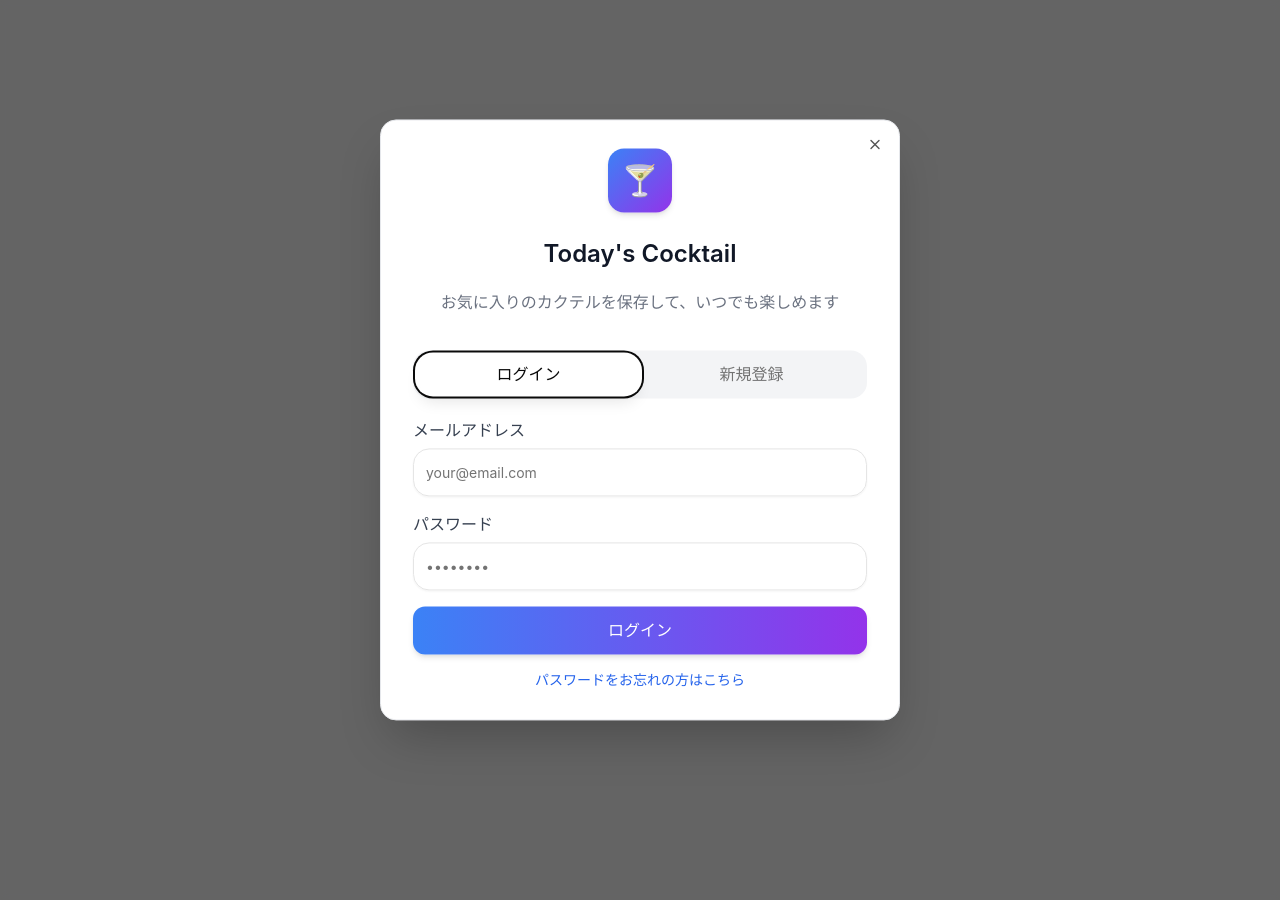
Test: AuthDialog › surface login errors coming from the API
Type "login@example.com" into the field labelled "メールアドレス".
click(640, 472); type("login@example.com")  # box [413,448,867,496]
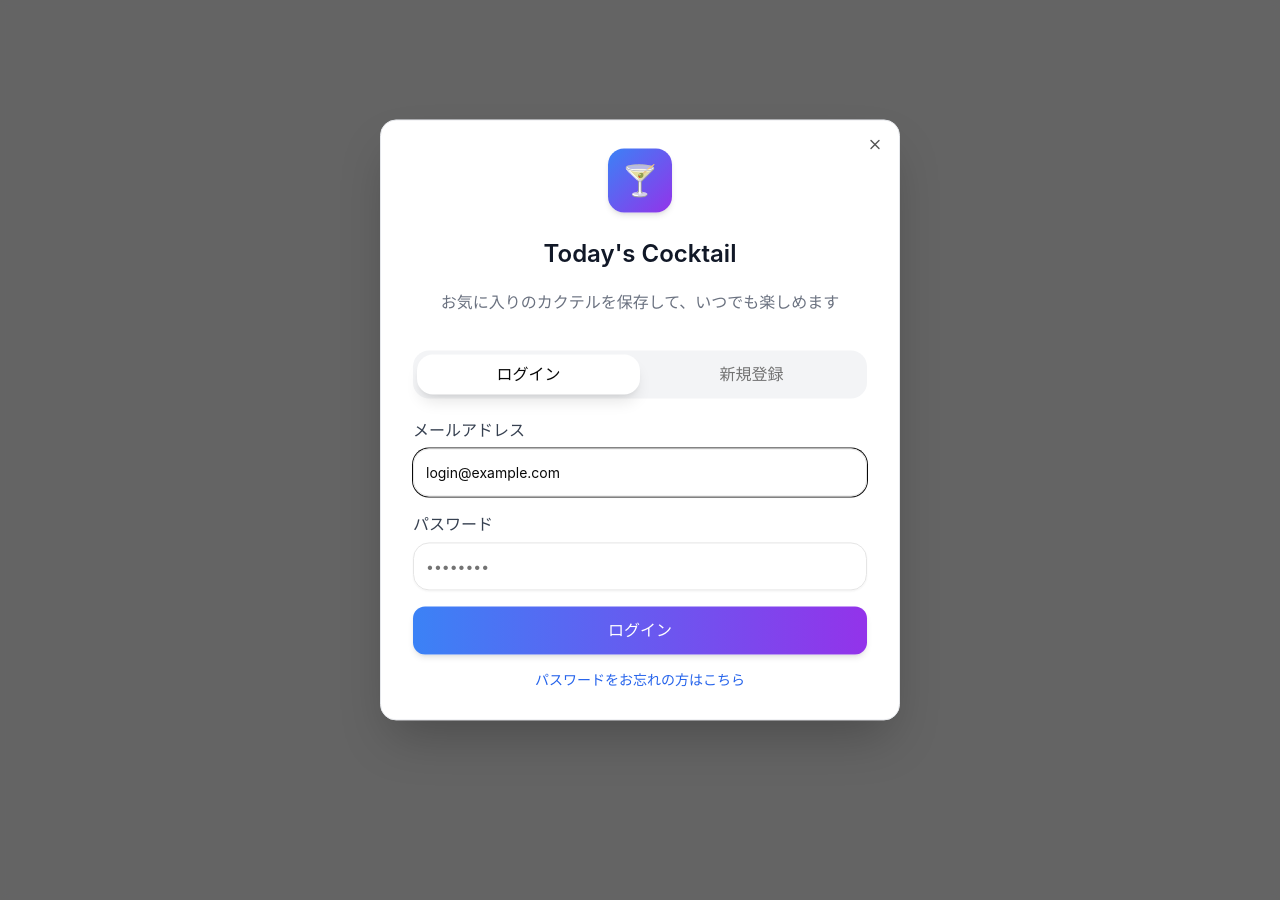
Type "password123" into the password field labelled "パスワード".
click(640, 566); type("password123")  # box [413,542,867,590]
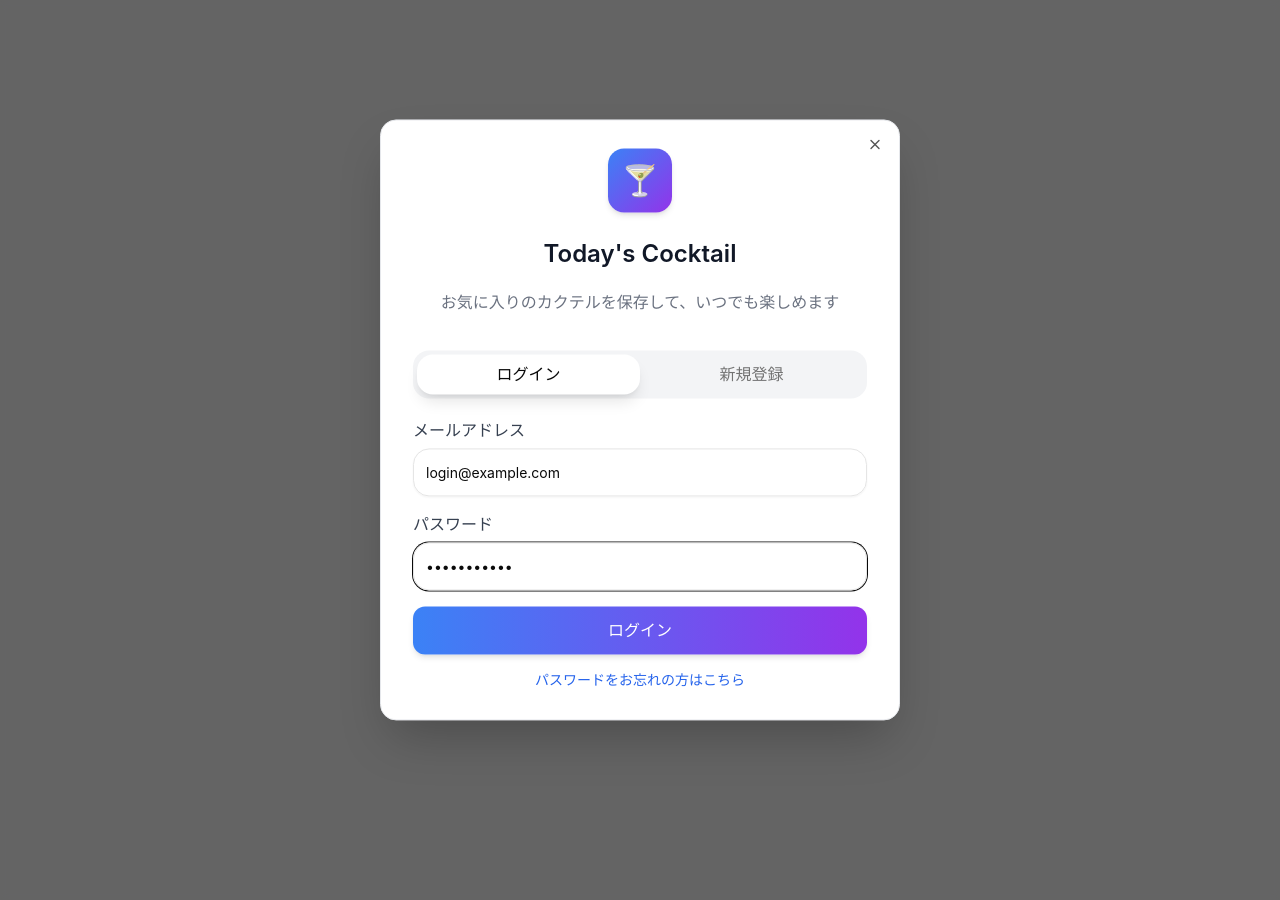
Click the button "ログイン".
click(640, 630)  # box [413,606,867,654]
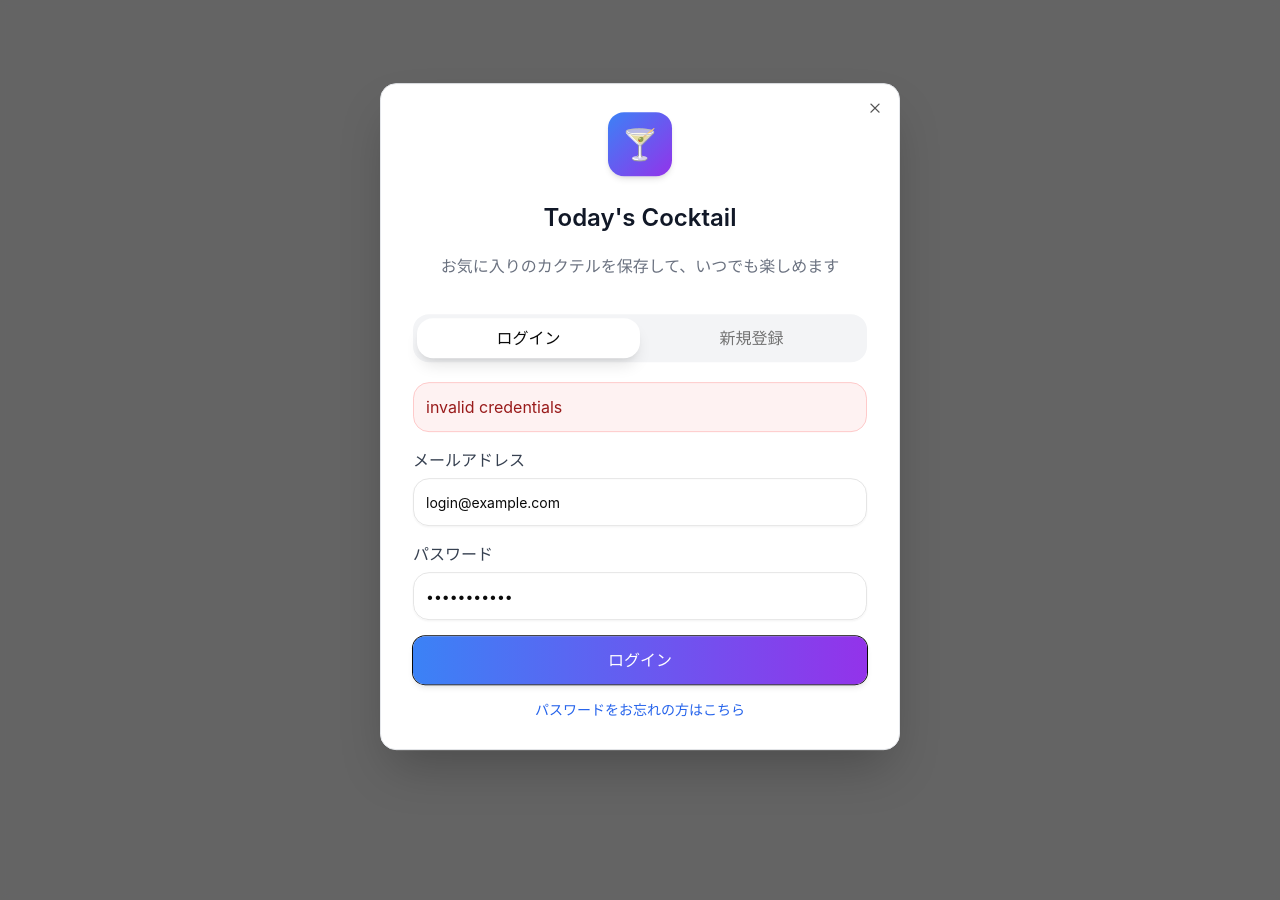
Now the text "invalid credentials" is shown, box [413,382,867,432]
